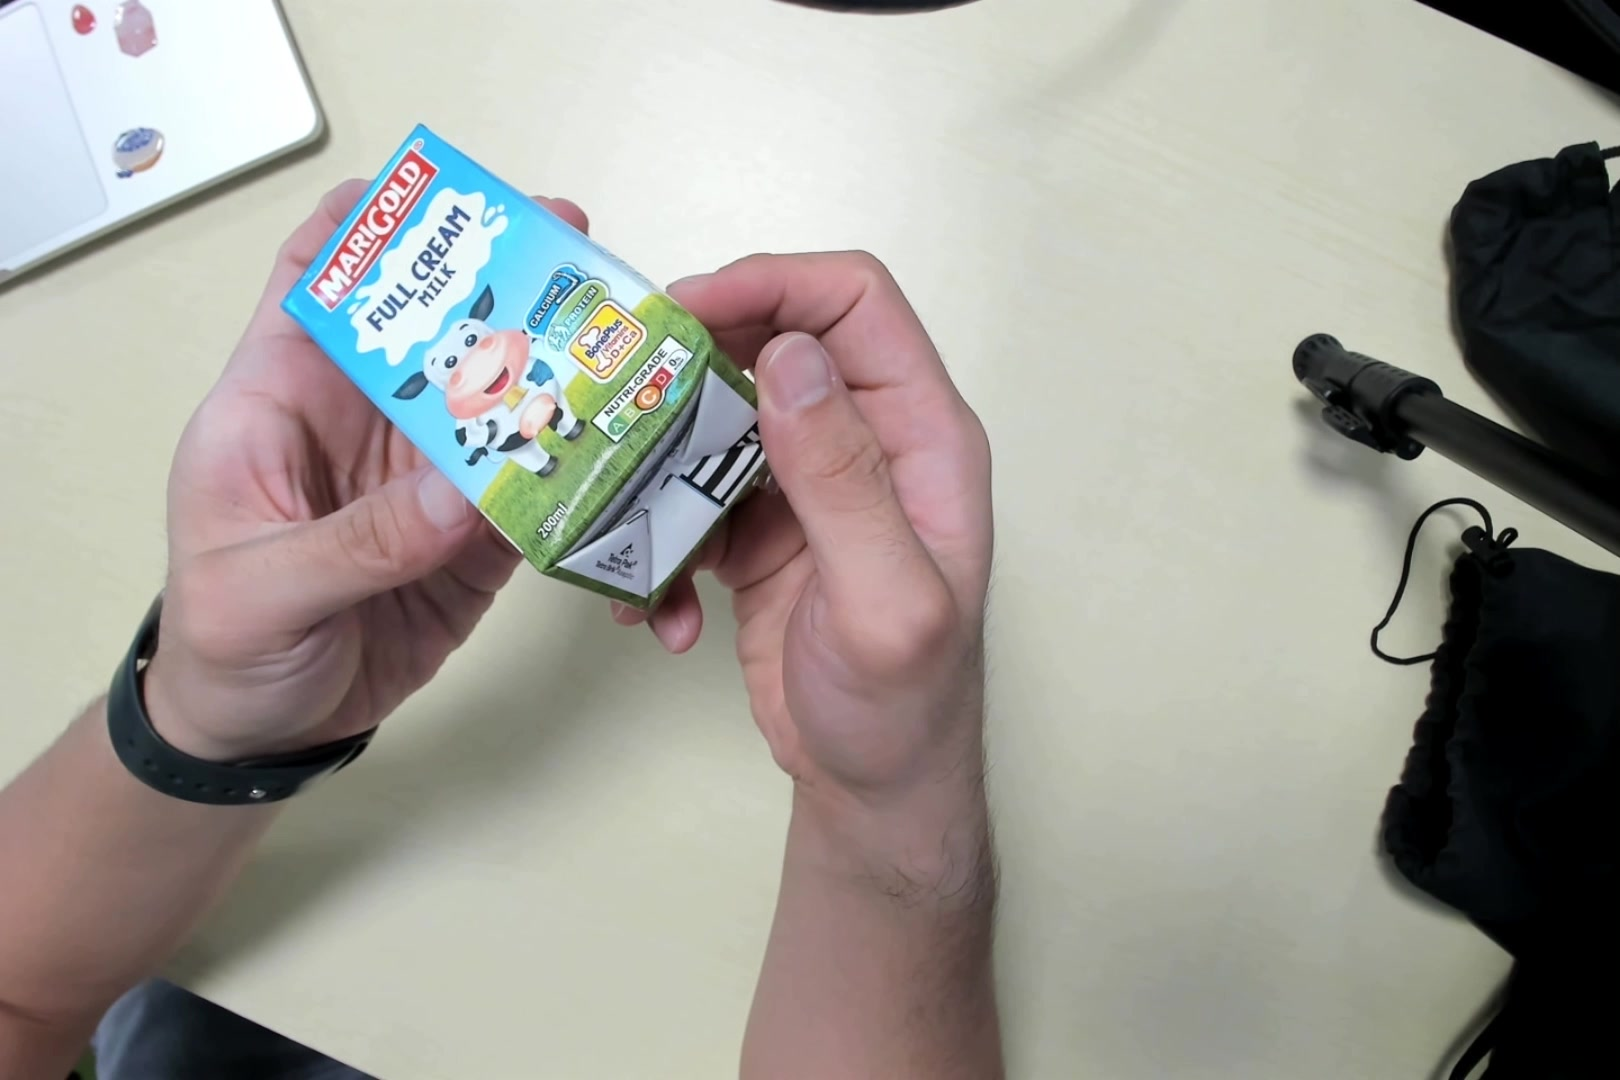Milk(Drink)_200-299g_Halal_NonHealthy: (297, 125, 771, 595)
